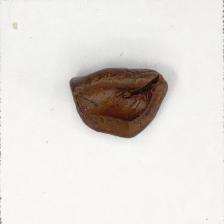NG: (68, 65, 170, 139)
